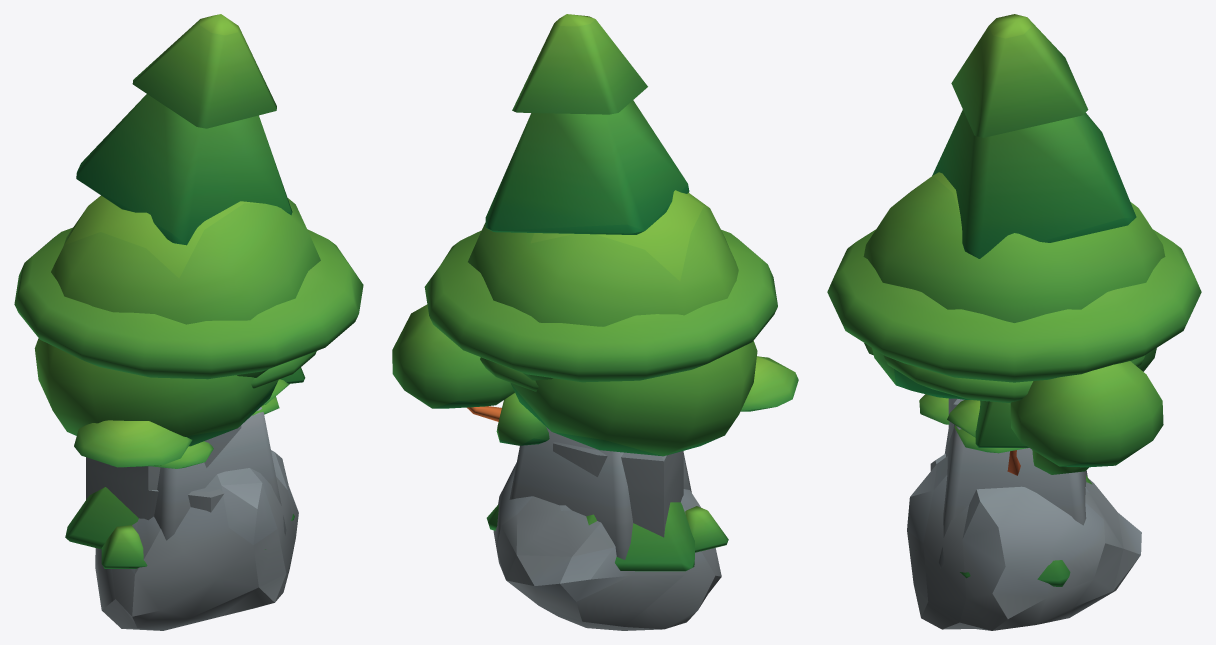
The model's file is props.glb.
3 renders of one model, left to right at view 1: azimuth 30°, elevation 25°; view 2: azimuth 150°, elevation 25°; view 3: azimuth 270°, elevation 25°, orthographic. The views are drawn at different scales.
Parts seen in each view (by area): view 1: Tree_4_B_Color1, Tree_3_B_Color1, Tree_1_B_Color1, Rock_3_K_Color1, Tree_1_A_Color1, Rock_2_D_Color1, Bush_4_E_Color1, Rock_1_G_Color1, Tree_3_A_Color1; view 2: Tree_1_B_Color1, Tree_4_B_Color1, Tree_3_B_Color1, Rock_3_K_Color1, Tree_1_A_Color1, Rock_2_D_Color1, Bush_4_E_Color1, Rock_1_G_Color1, Tree_3_A_Color1; view 3: Tree_1_B_Color1, Tree_4_B_Color1, Tree_3_B_Color1, Rock_3_K_Color1, Rock_2_D_Color1, Tree_3_A_Color1, Tree_1_A_Color1, Bush_4_E_Color1.
Part boxes in pixels (<box>): Tree_4_B_Color1: <box>76,14,305,383</box>; Tree_3_B_Color1: <box>14,227,363,467</box>; Tree_1_B_Color1: <box>51,195,320,377</box>; Rock_3_K_Color1: <box>95,450,298,630</box>; Tree_1_A_Color1: <box>34,338,278,446</box>; Rock_2_D_Color1: <box>154,407,286,540</box>; Bush_4_E_Color1: <box>65,487,294,568</box>; Rock_1_G_Color1: <box>86,425,241,520</box>; Tree_3_A_Color1: <box>153,351,316,468</box>; Tree_1_B_Color1: <box>392,190,738,421</box>; Tree_4_B_Color1: <box>485,14,689,234</box>; Tree_3_B_Color1: <box>424,229,798,411</box>; Rock_3_K_Color1: <box>493,463,721,630</box>; Tree_1_A_Color1: <box>496,341,757,456</box>; Rock_2_D_Color1: <box>509,427,691,559</box>; Bush_4_E_Color1: <box>486,502,728,571</box>; Rock_1_G_Color1: <box>553,442,683,537</box>; Tree_3_A_Color1: <box>480,357,538,391</box>; Tree_1_B_Color1: <box>863,172,1165,467</box>; Tree_4_B_Color1: <box>932,14,1136,475</box>; Tree_3_B_Color1: <box>827,229,1201,453</box>; Rock_3_K_Color1: <box>907,456,1141,630</box>; Rock_2_D_Color1: <box>938,424,1087,568</box>; Tree_3_A_Color1: <box>883,355,1145,437</box>; Tree_1_A_Color1: <box>872,348,1156,474</box>; Bush_4_E_Color1: <box>960,475,1092,586</box>.
Bounding box in the file's own units: 4.31 × 7.56 × 4.13.
Materials: 1 (1 with a texture image).
